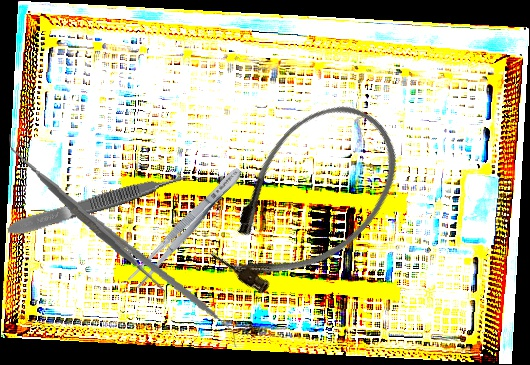Cannula: (189, 81, 425, 320)
Chopper: (74, 214, 251, 350)
Dressing Forceps: (125, 162, 248, 292)
Spatula Surgical: (0, 133, 174, 303)
Tissue Forceps: (5, 169, 191, 239)
